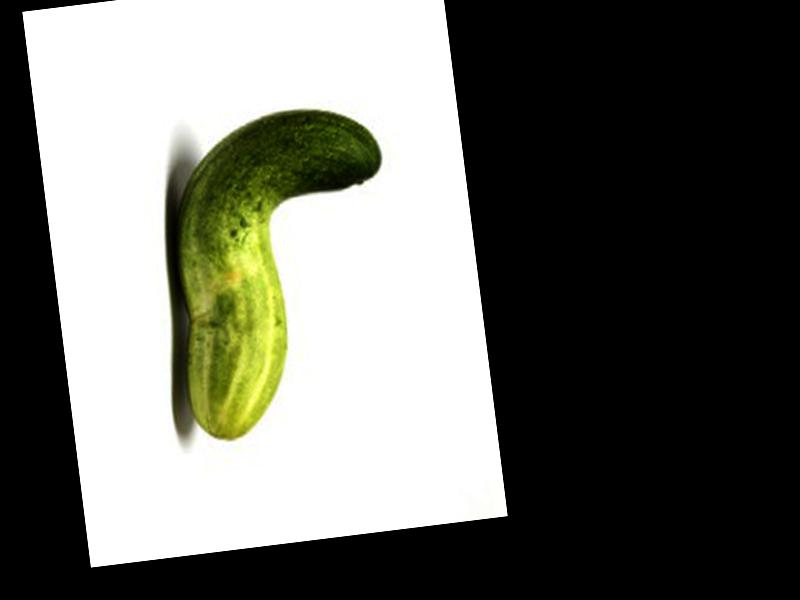Cucumber: (153, 99, 413, 445)
